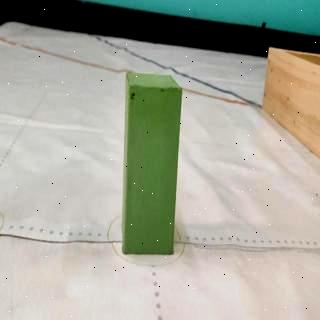greenbox: (122, 71, 184, 256)
